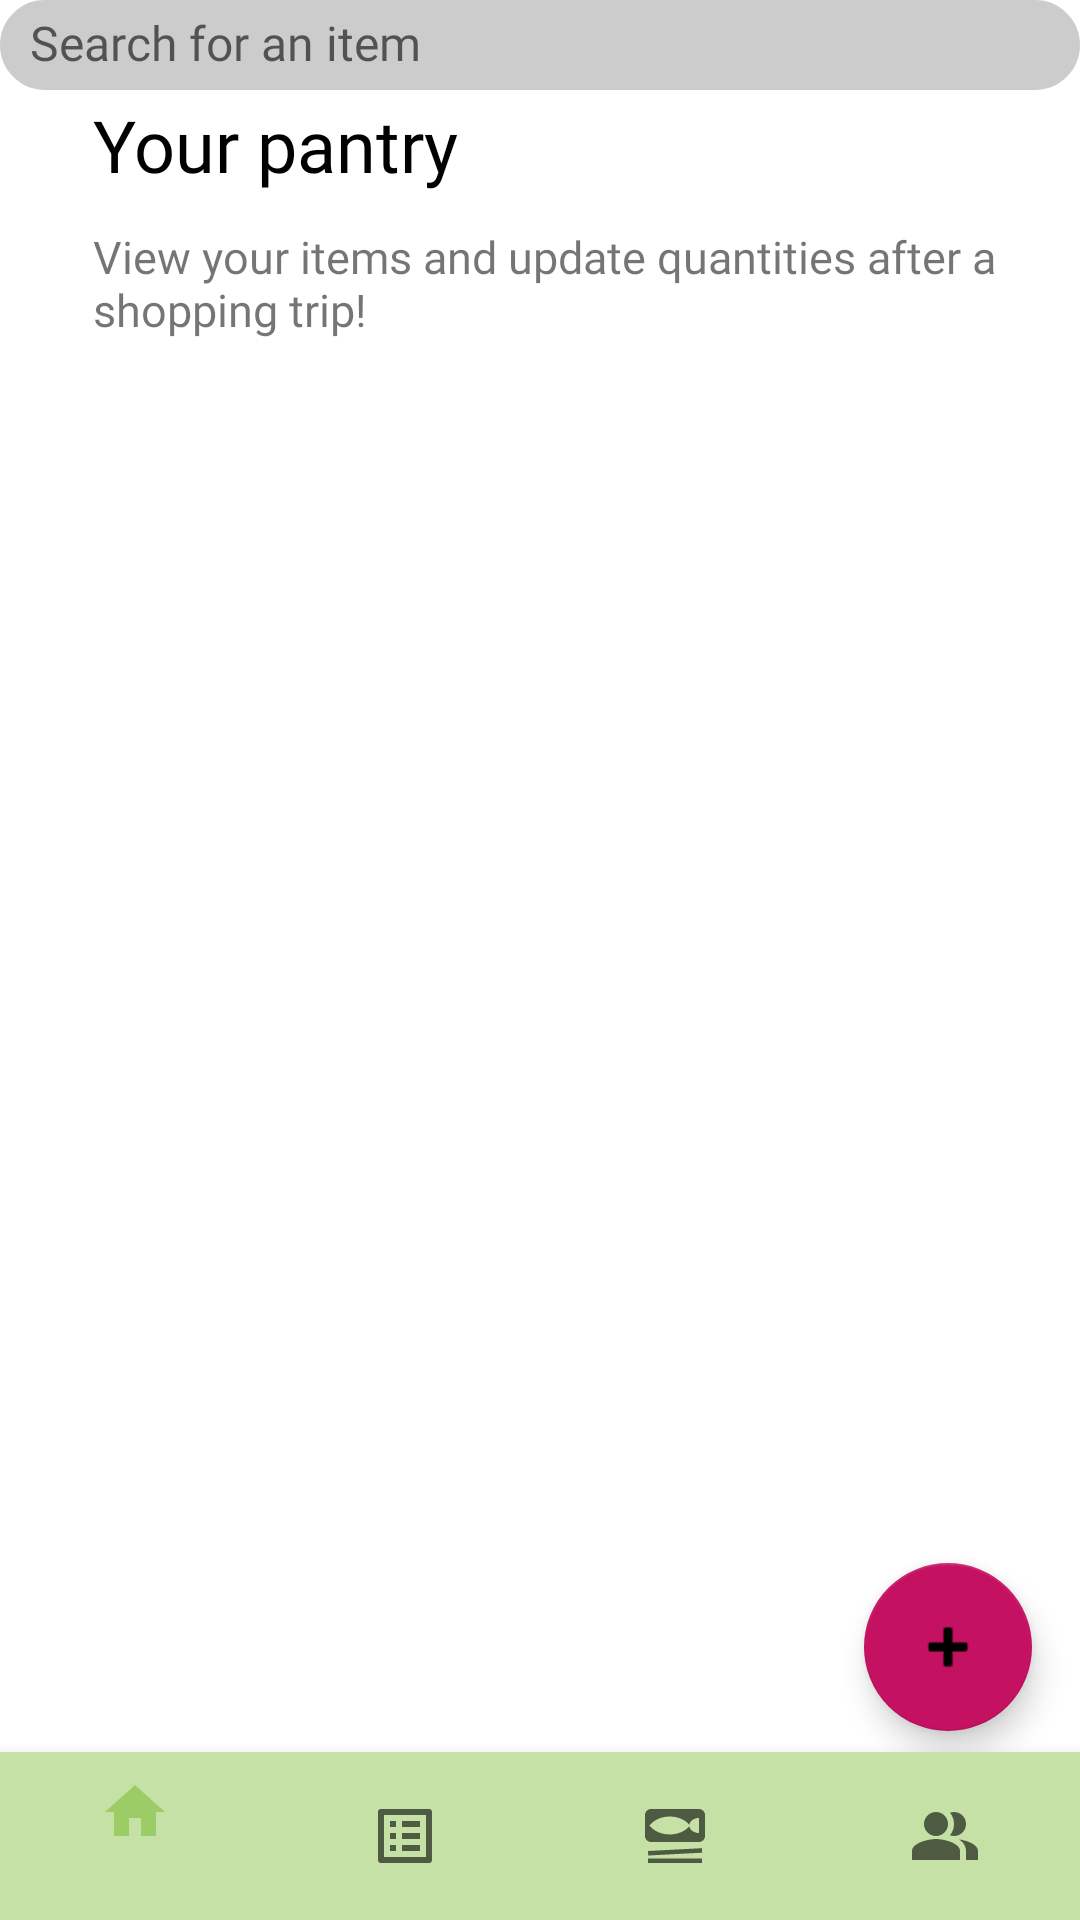

Screen size 1080px x 1920px. Icon name, then its center in pixels as (x=x, y=y):
add: (x=948, y=1647)
